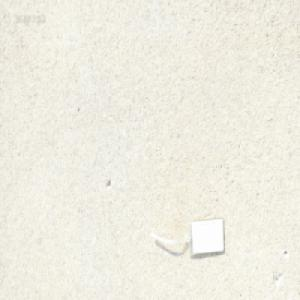LuggageTag: (149, 215, 225, 257)
